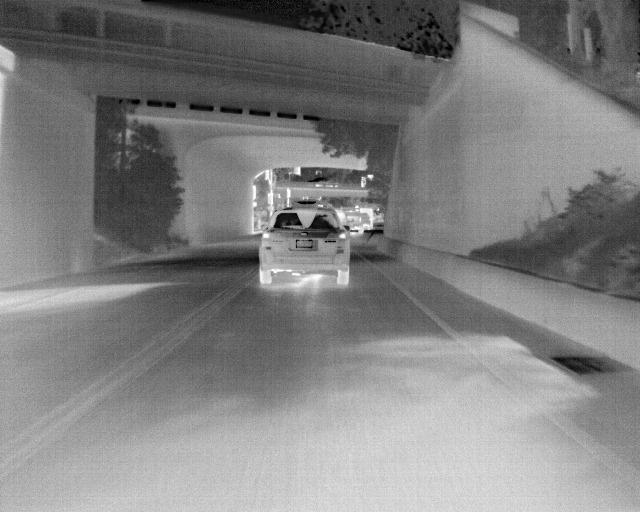car: (258, 205, 350, 287), (347, 208, 363, 235), (360, 210, 371, 232)
